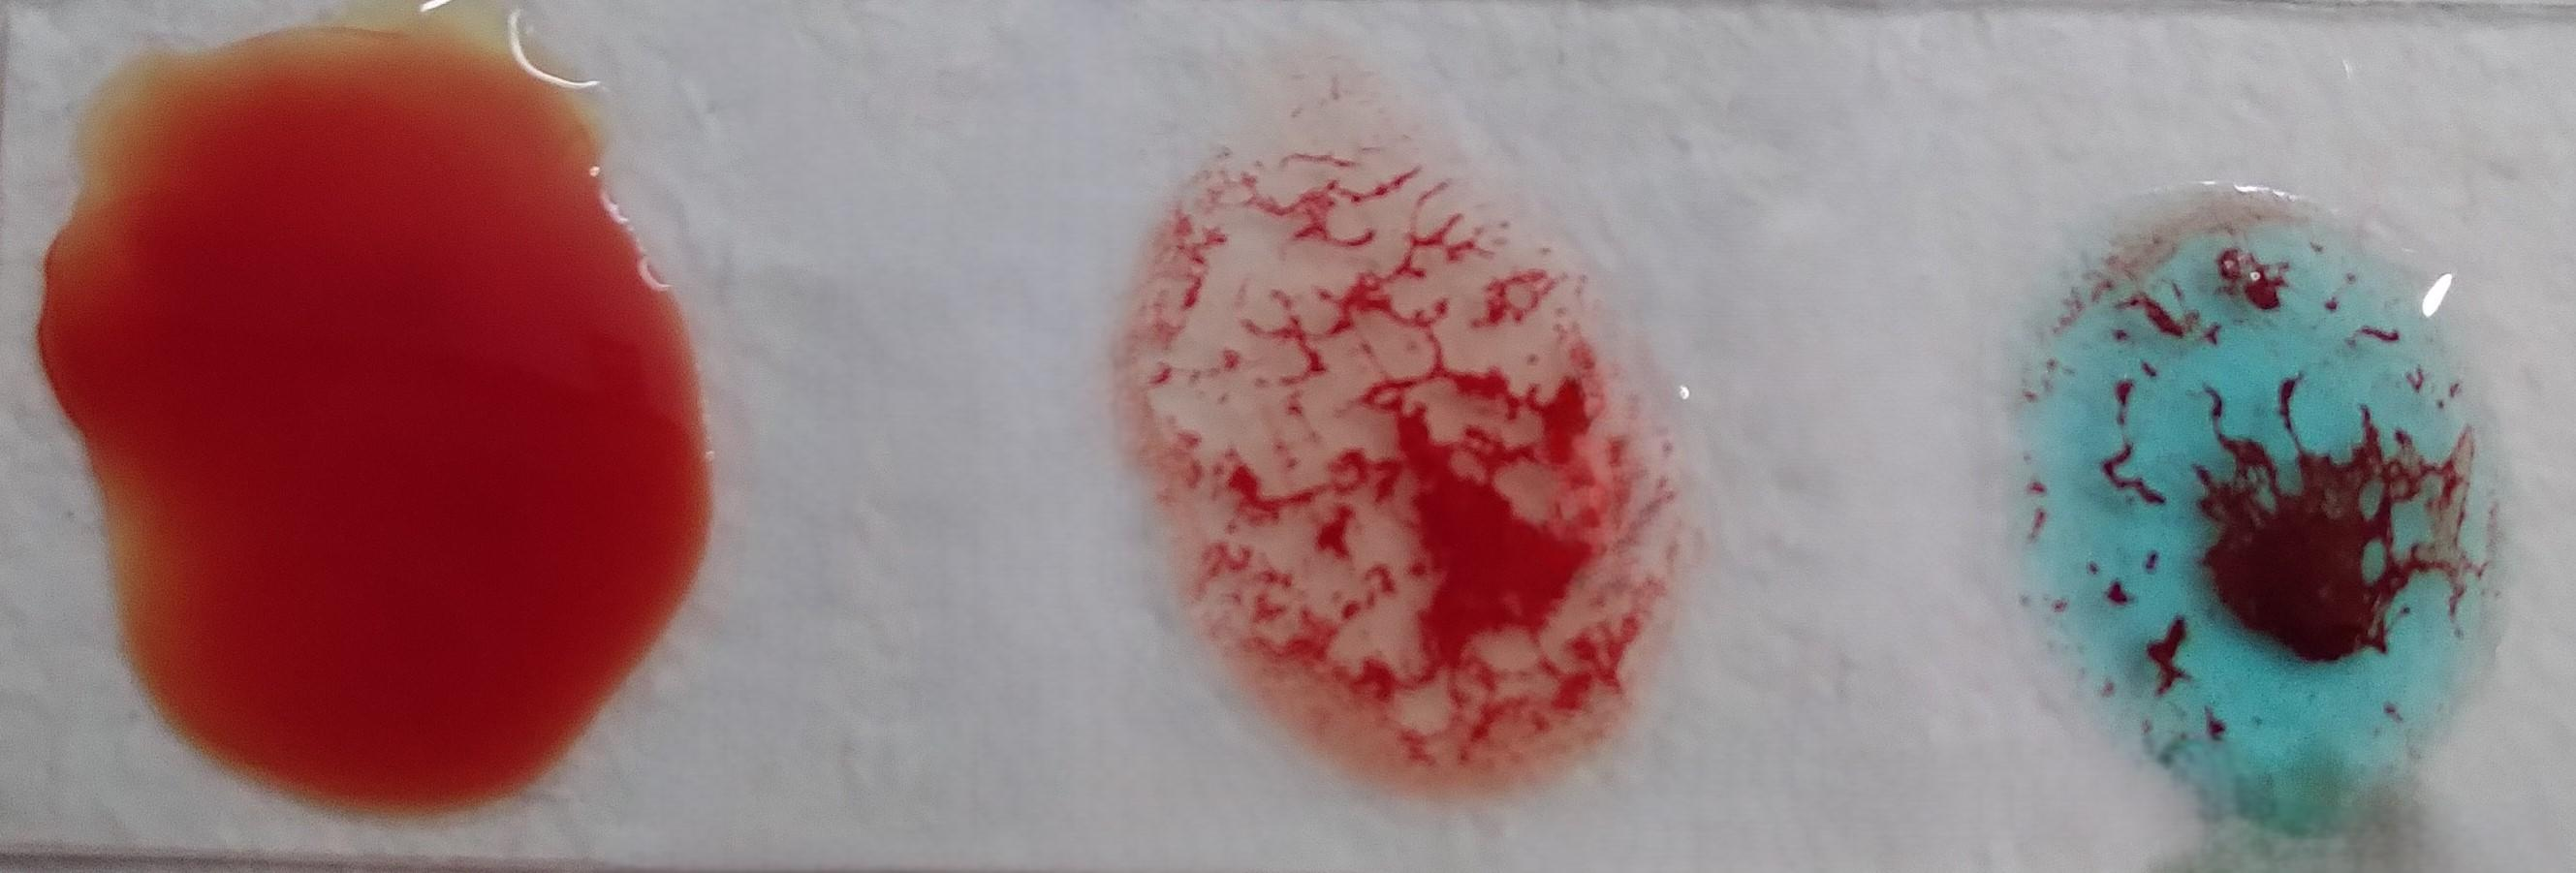A: (2036, 182, 2486, 845)
D: (1127, 156, 1666, 783)
